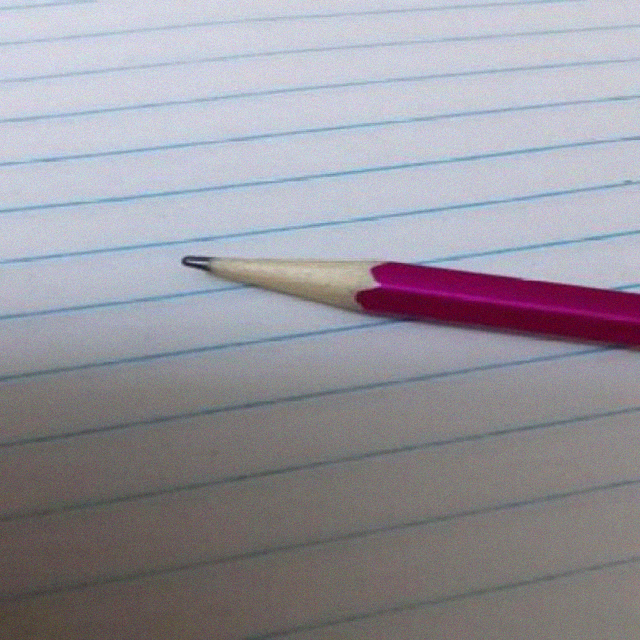pencil: (182, 242, 397, 303)
